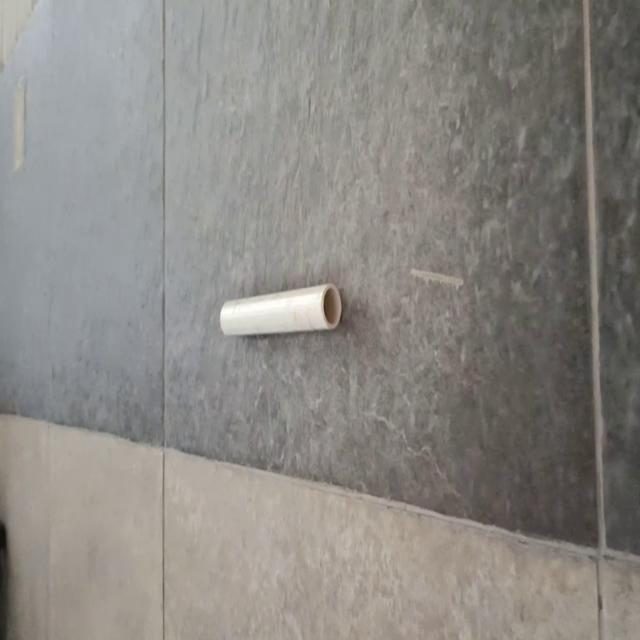Cube: (219, 281, 342, 337)
